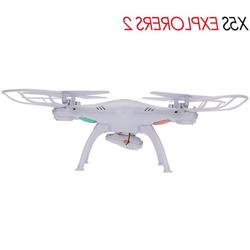drone: (1, 85, 250, 173)
